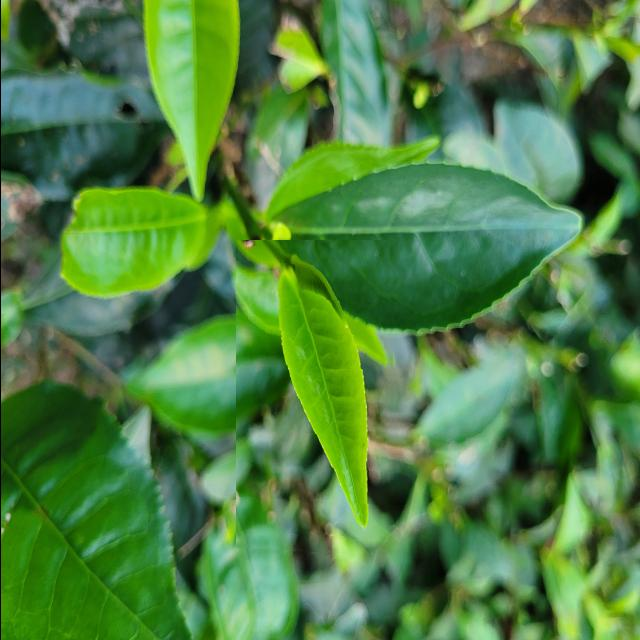Catagory A(1-2 days): (235, 240, 398, 557)
